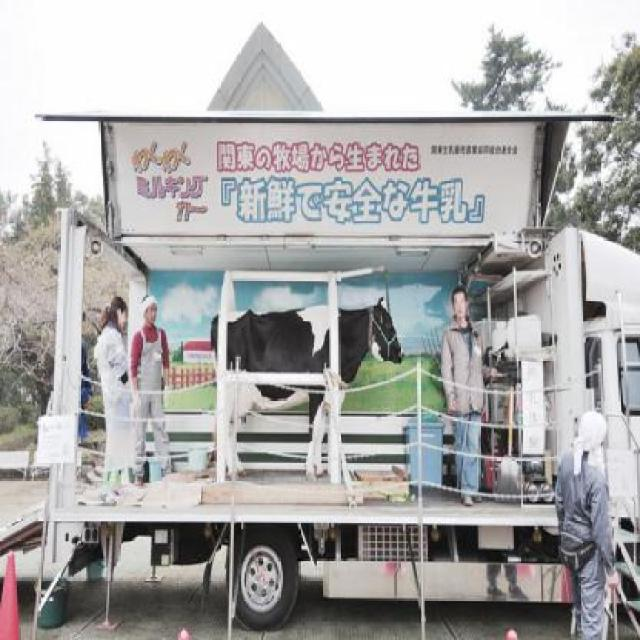Person: (554, 412, 620, 639), (438, 285, 498, 507), (94, 296, 135, 504), (131, 296, 174, 492), (77, 310, 91, 439)
